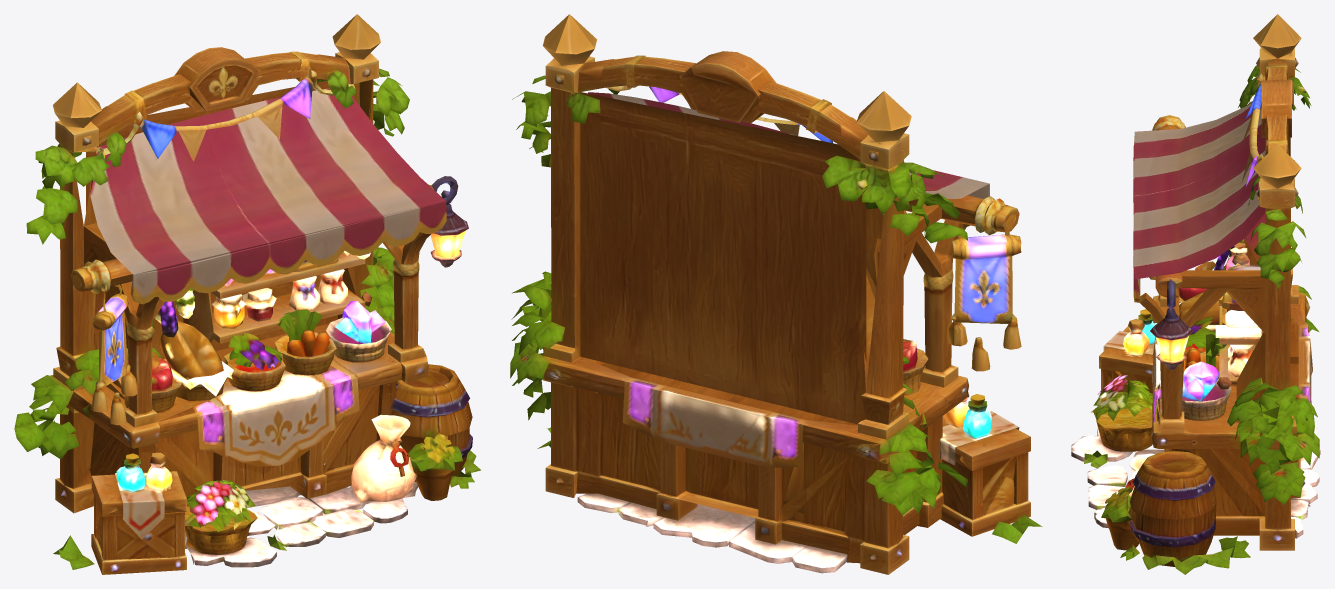
Rendered from market-produce-stall.glb.
The picture shows the model from 3 angles, left to right: view 1: azimuth 30°, elevation 25°; view 2: azimuth 150°, elevation 25°; view 3: azimuth 270°, elevation 25°; orthographic projection. The views are drawn at different scales.
Parts seen in each view (by area): view 1: market-produce-stall; view 2: market-produce-stall; view 3: market-produce-stall.
Boxes of the visible parts, bbox=[...] form: market-produce-stall: bbox=[14, 14, 480, 574]; market-produce-stall: bbox=[510, 14, 1042, 574]; market-produce-stall: bbox=[1071, 14, 1320, 574].
Bounding box in the file's own units: 7.32 × 7 × 3.92.
1 material, 1 textured.
